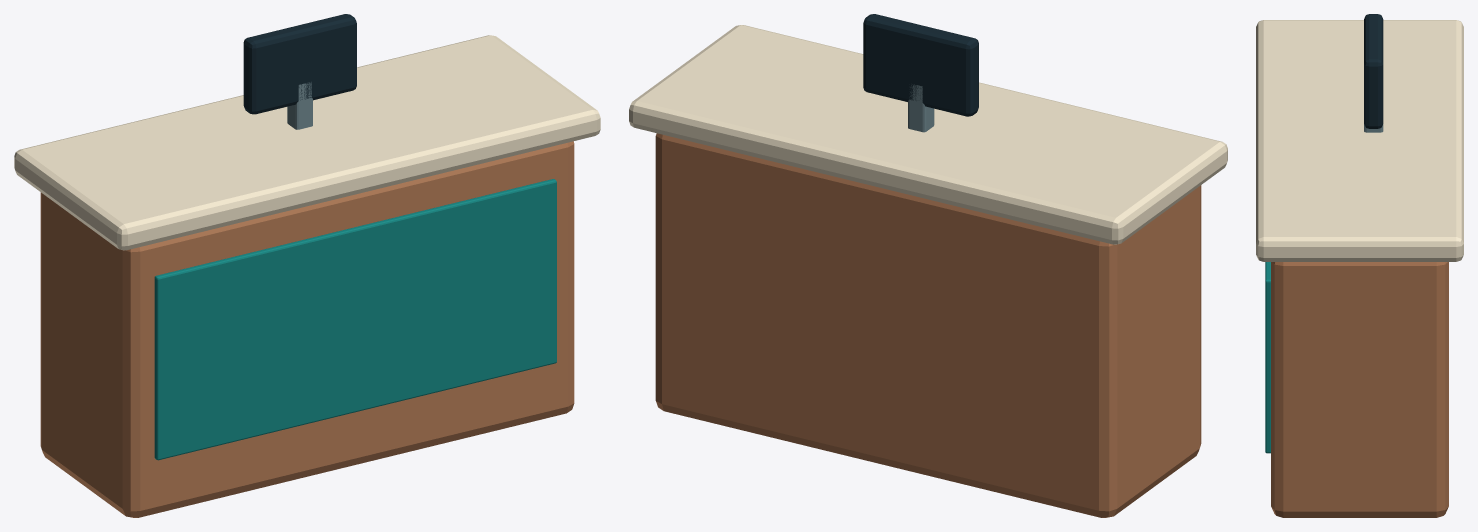
The model's file is Reception_Desk.fbx.
3 views of the same model, side by side, from view 1: azimuth 30°, elevation 25°; view 2: azimuth 150°, elevation 25°; view 3: azimuth 270°, elevation 25° (orthographic). The views are drawn at different scales.
Parts seen in each view (by area): view 1: Reception_Desk_Mesh; view 2: Reception_Desk_Mesh; view 3: Reception_Desk_Mesh.
Boxes of the visible parts, x1,y1,x2,y2 form: Reception_Desk_Mesh: (14,14,600,517); Reception_Desk_Mesh: (629,14,1227,517); Reception_Desk_Mesh: (1256,14,1463,517).
Bounding box in the file's own units: 1.93 × 1.54 × 0.76.
1 material, 1 textured.
